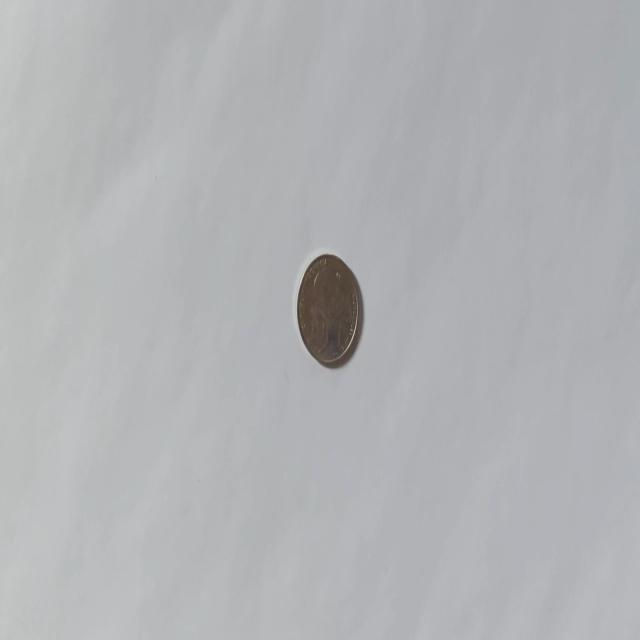seribu rupiah koin: (296, 250, 360, 368)
